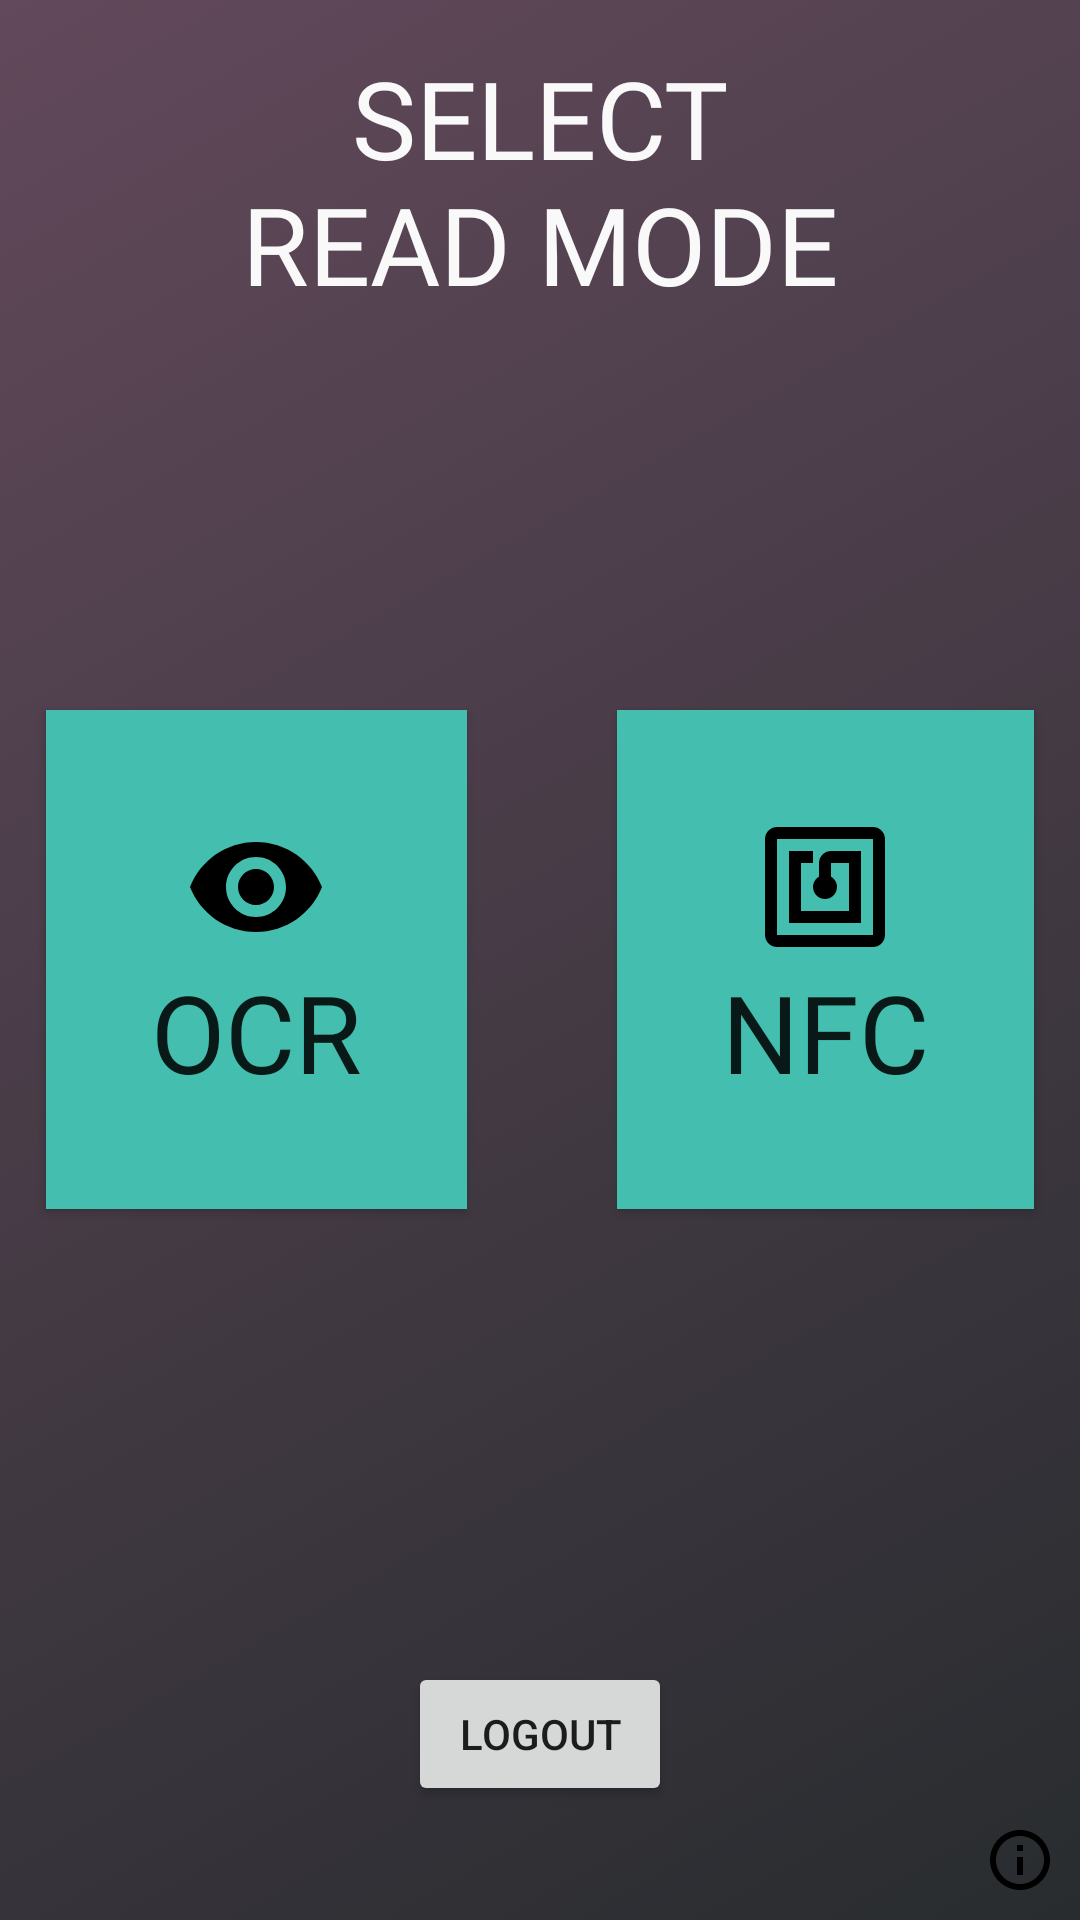

Icons on this 1080 × 1920 Android screen, each with the point to tap as [x,y]:
info: [1020,1860]
